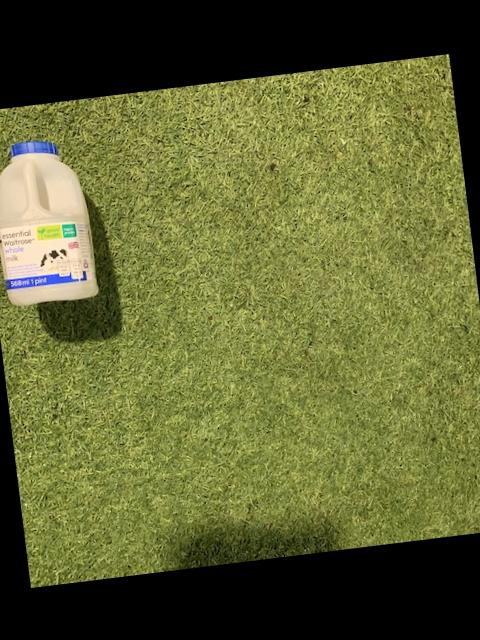plastic: (0, 142, 96, 305)
